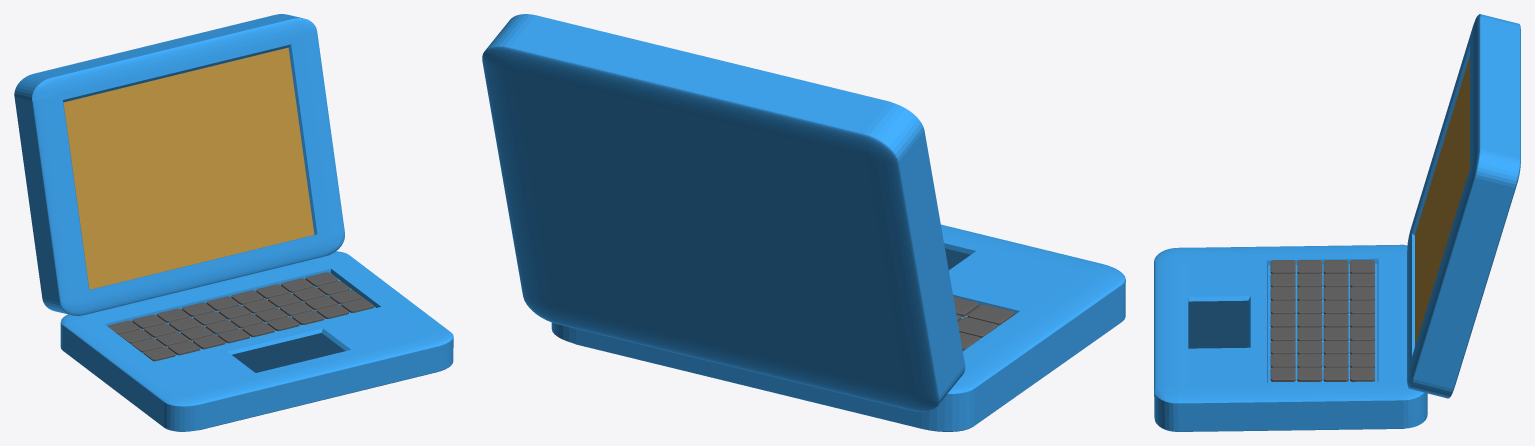
Rendered from mini-laptop.glb.
The picture shows the model from 3 angles, left to right: view 1: azimuth 30°, elevation 25°; view 2: azimuth 150°, elevation 25°; view 3: azimuth 270°, elevation 25°; orthographic projection. The views are drawn at different scales.
Parts seen in each view (by area): view 1: Cube.002; view 2: Cube.002; view 3: Cube.002.
Part boxes in pixels (bbox=[...]): Cube.002: bbox=[14, 14, 453, 431]; Cube.002: bbox=[482, 14, 1125, 431]; Cube.002: bbox=[1154, 14, 1520, 431].
Bounding box in the file's own units: 2.38 × 1.96 × 2.37.
